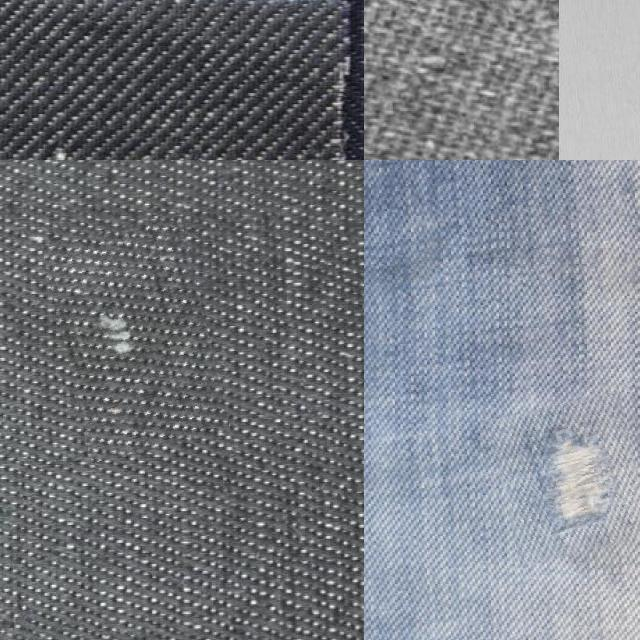Thread_other: (52, 218, 218, 456)
seam: (494, 397, 640, 560)
